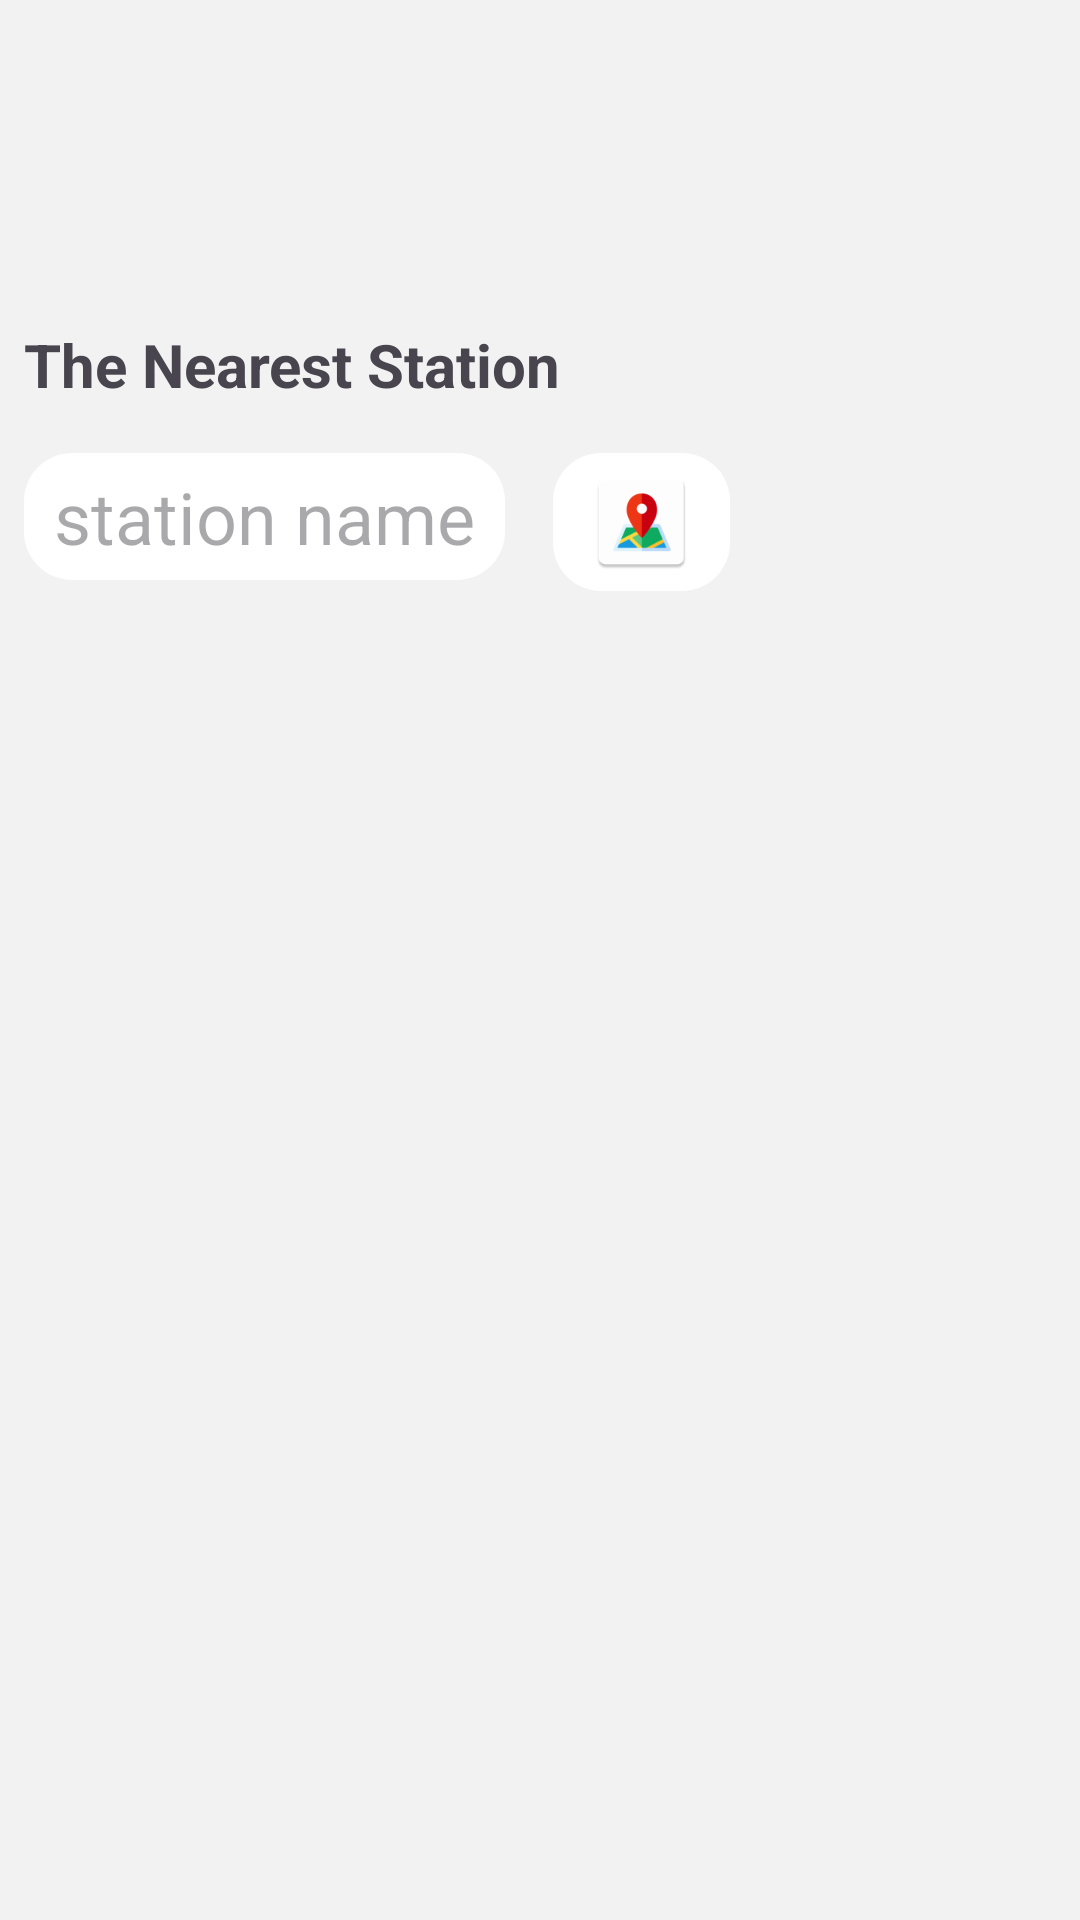

Icon click points for this 1080x1920 phone screenshot, format (x,y):
mapicon: (641,522)
